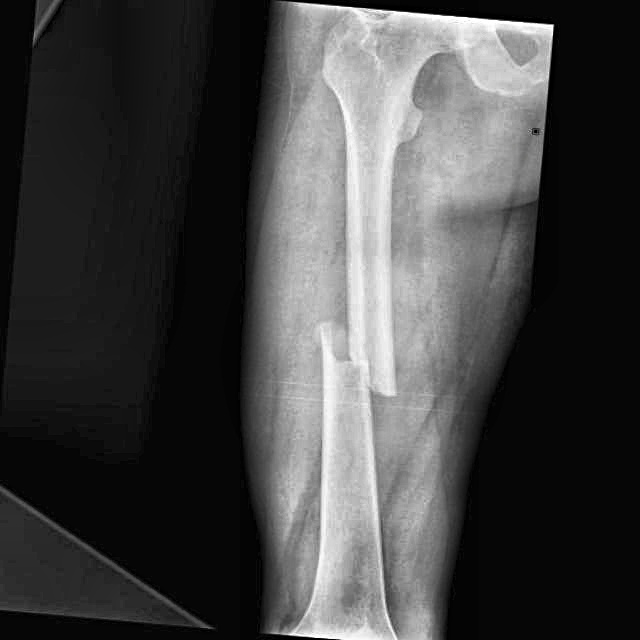Transverse: (293, 300, 423, 443)
